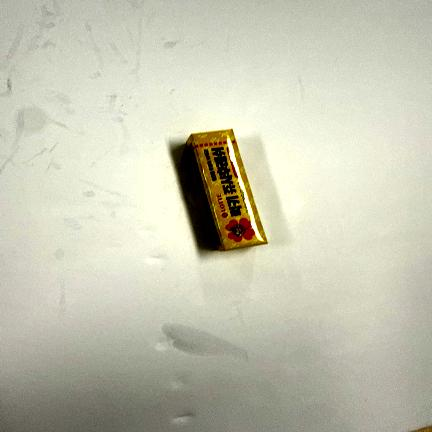gum_yellow: (186, 129, 267, 251)
